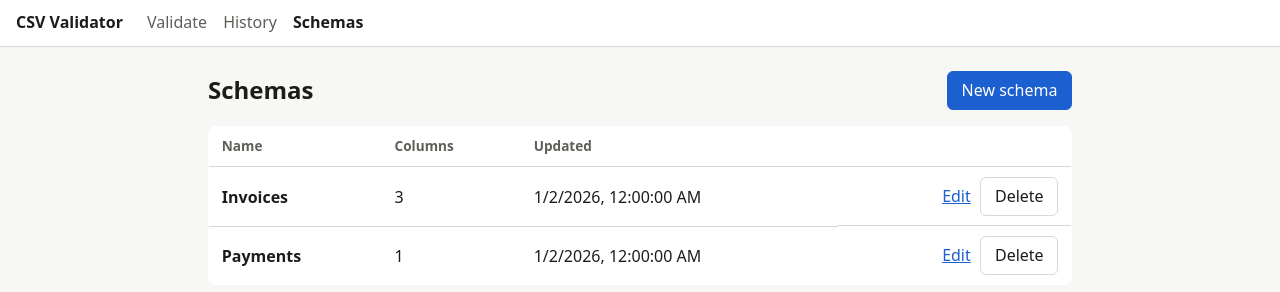
deleting a schema › asks for confirmation, deletes, and refreshes the list
The width and height of the screenshot is (1280, 292).
What coordinates should you click on to do the following:
click the button with aria-label "Delete Invoices"
I would click on:
 (1019, 196)
Its box is [980,177,1058,216].
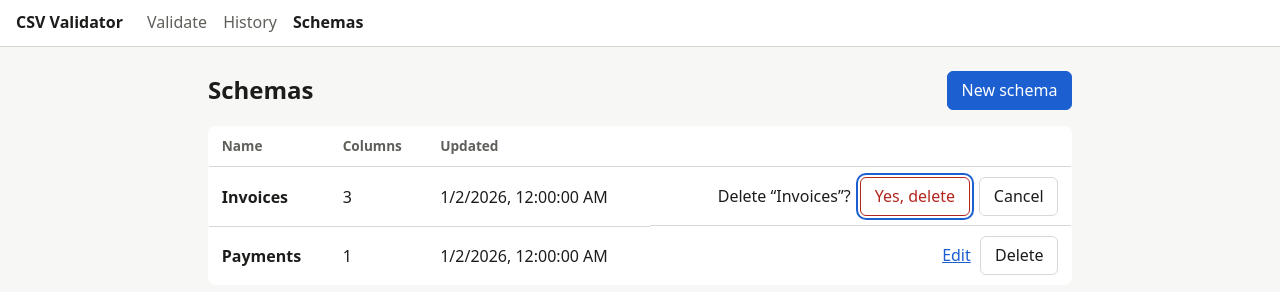
expect the text "Delete “Invoices”?" is shown: met, box [718,184,851,208]
What coordinates should you click on to do the following:
click the button "Yes, delete"
I would click on:
 (915, 196)
Its box is [860,177,970,216].
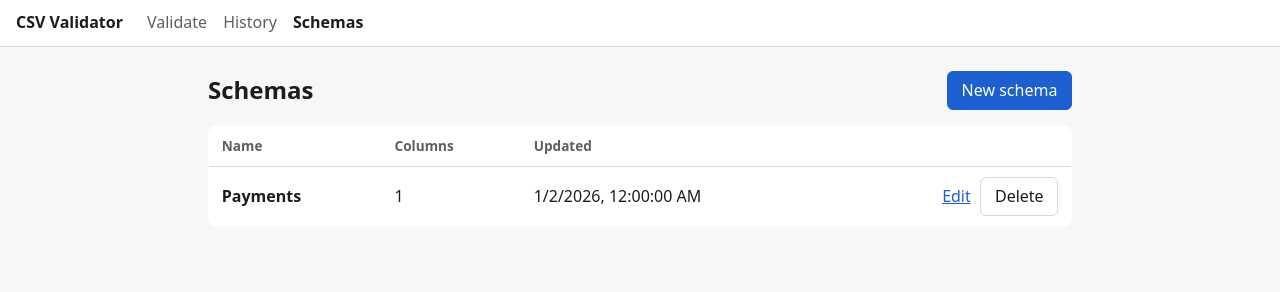
expect the column heading "Payments" is shown: met, box [208,167,382,226]
expect the column heading "Invoices" is gone: met
